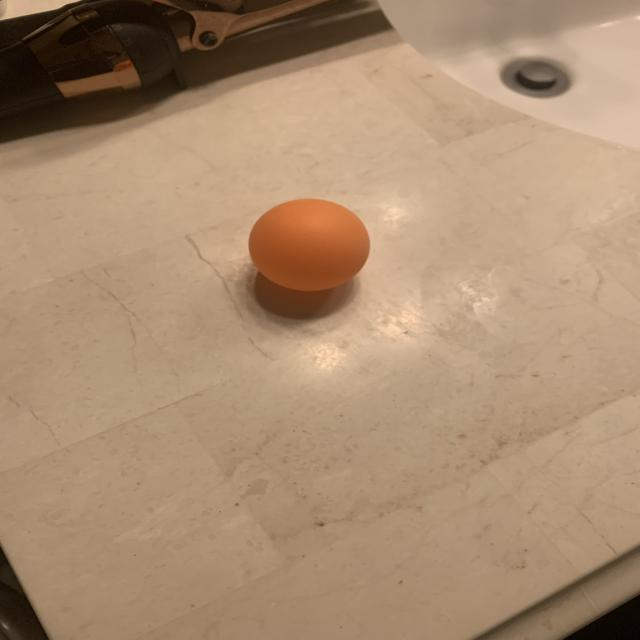ping-pong-ball: (242, 190, 376, 296)
